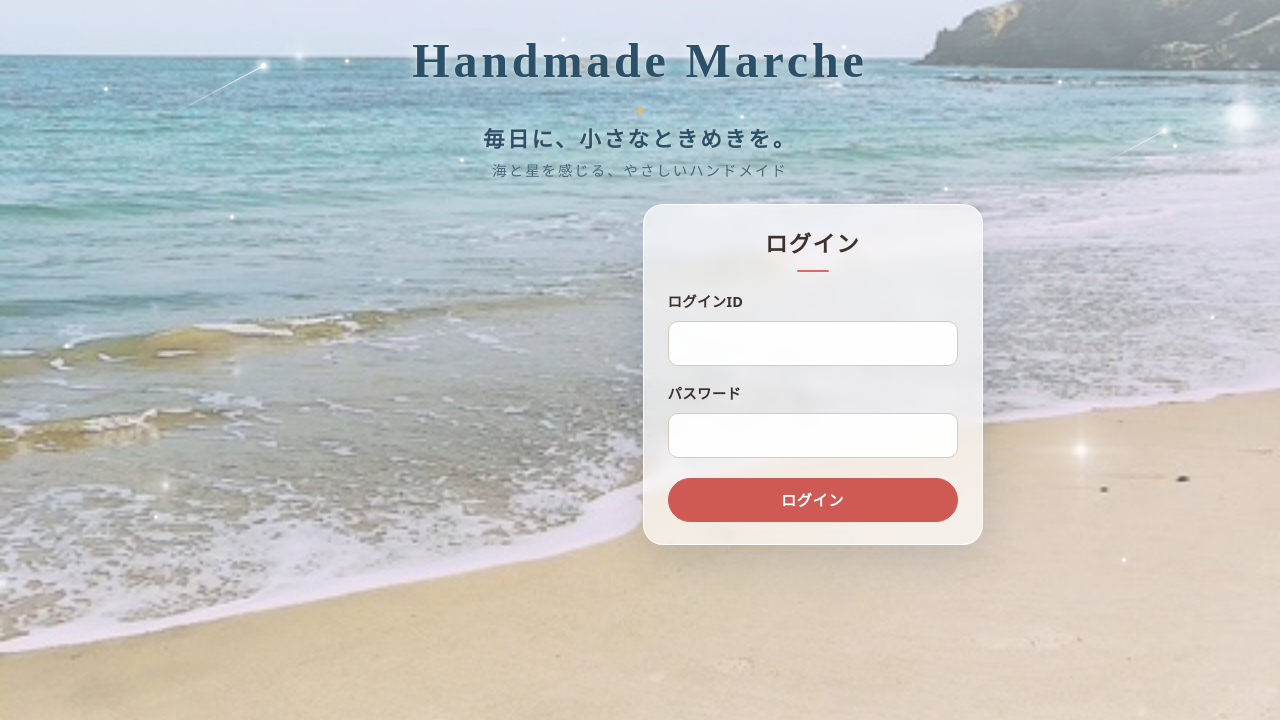
ログイン画面 › 未入力の場合はエラーを表示し、ログインAPIを呼ばない
This screenshot has width=1280, height=720.
Expected: the heading "ログイン" is shown, [765,232,860,257]
Click the button "ログイン" at (813, 500), box [668,478,958,522]
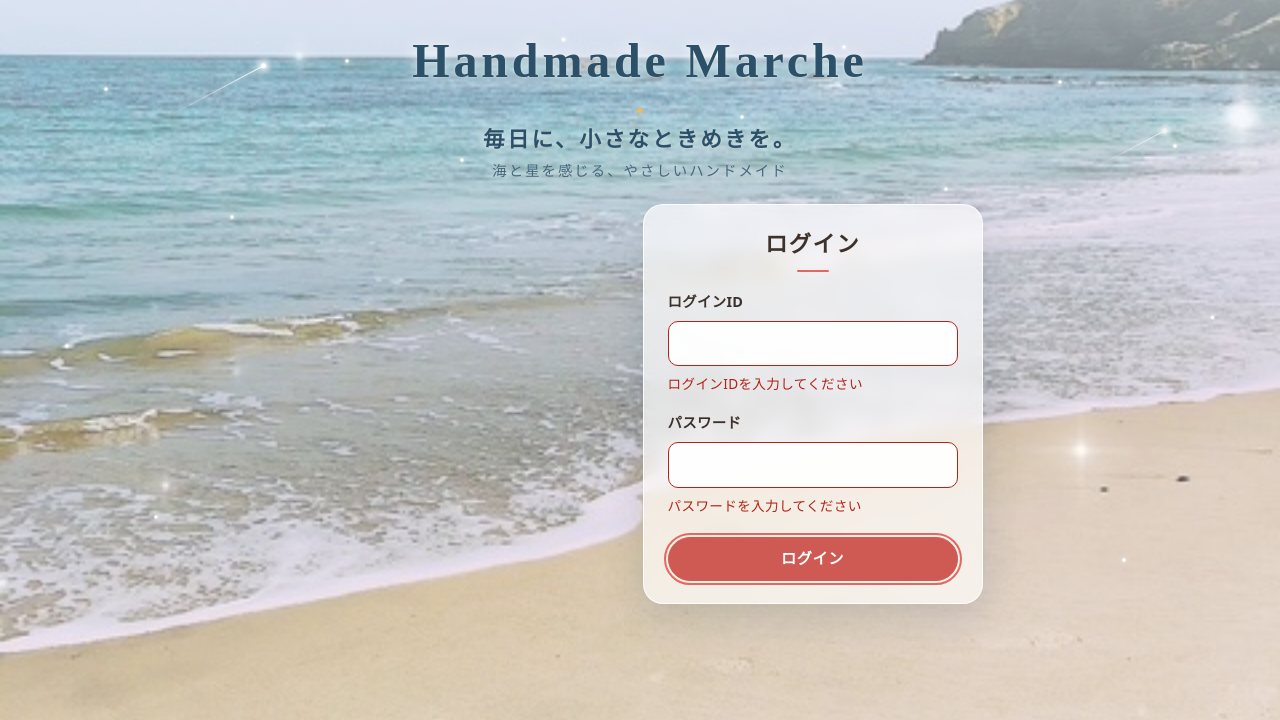
Now the text "ログインIDを入力してください" is shown, box [668,374,863,393]
Now the text "パスワードを入力してください" is shown, box [668,496,862,514]
